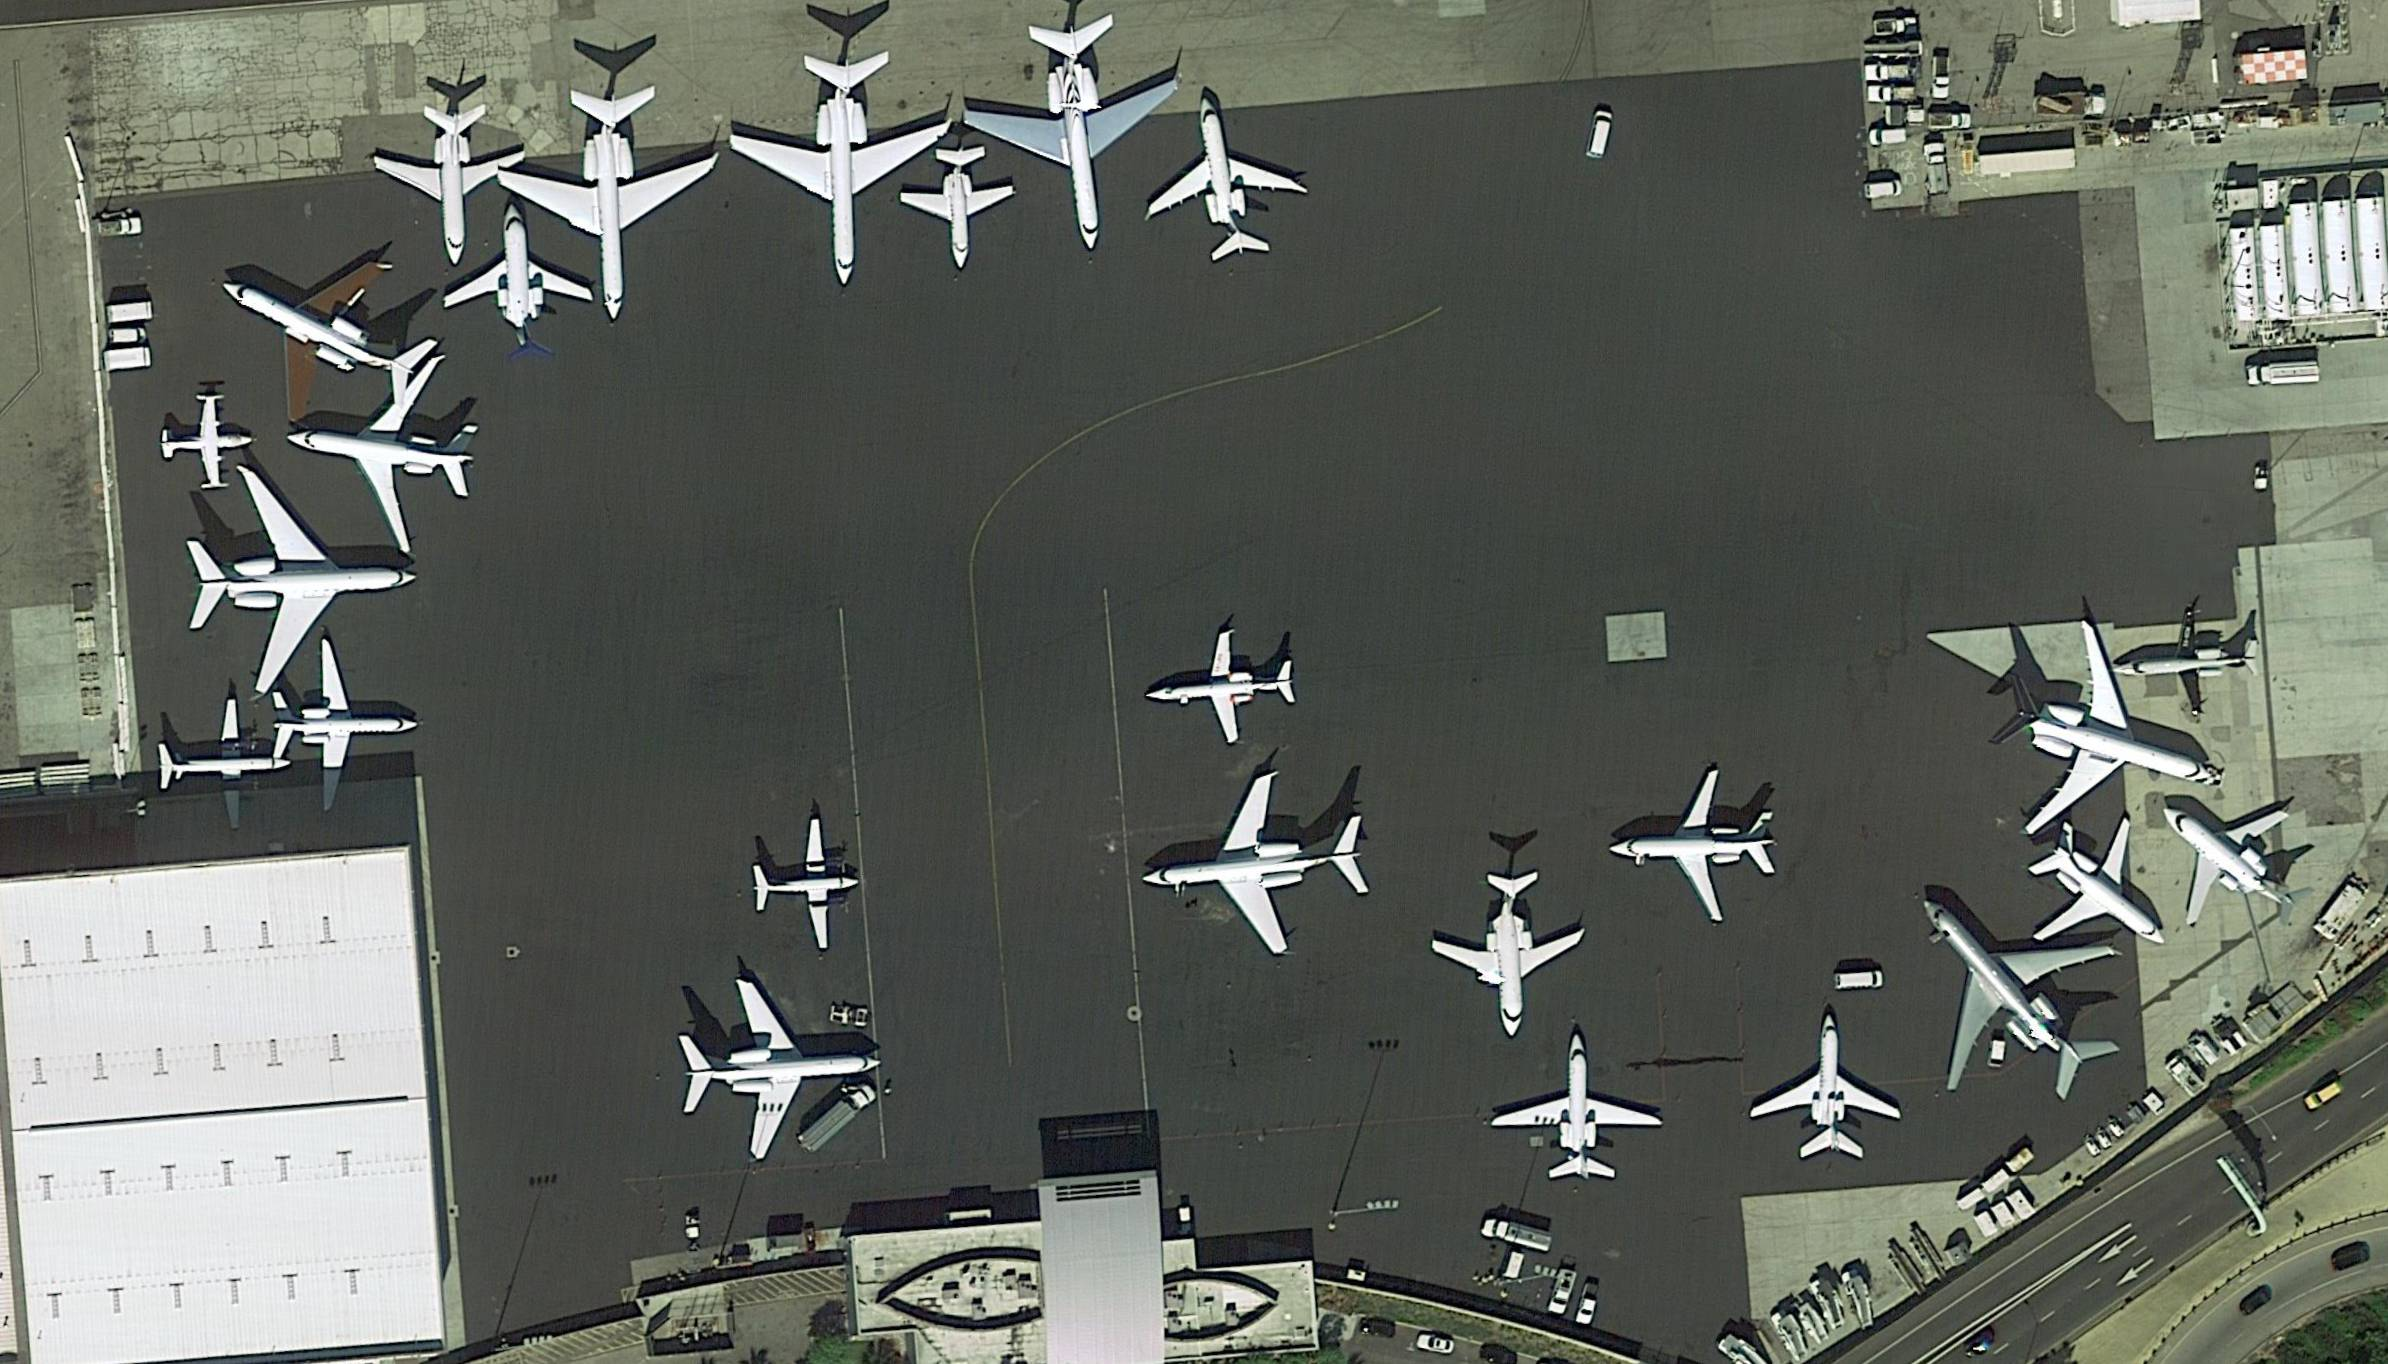plane: (1835, 825, 2167, 1157), (1958, 593, 2263, 890), (243, 302, 523, 607), (940, 2, 1209, 264), (184, 446, 423, 707), (717, 44, 964, 292), (492, 82, 728, 321), (1128, 762, 1379, 971), (1989, 782, 2204, 1003), (2119, 744, 2331, 962), (672, 962, 891, 1171), (1127, 85, 1312, 275), (1419, 866, 1596, 1043), (1484, 1026, 1670, 1190), (1602, 766, 1783, 926), (266, 633, 420, 812), (362, 103, 530, 267), (1747, 1015, 1903, 1162), (440, 200, 592, 333), (1145, 621, 1301, 751), (156, 690, 295, 834), (2106, 598, 2262, 725), (750, 815, 864, 964), (895, 148, 1022, 275), (161, 393, 254, 493)
